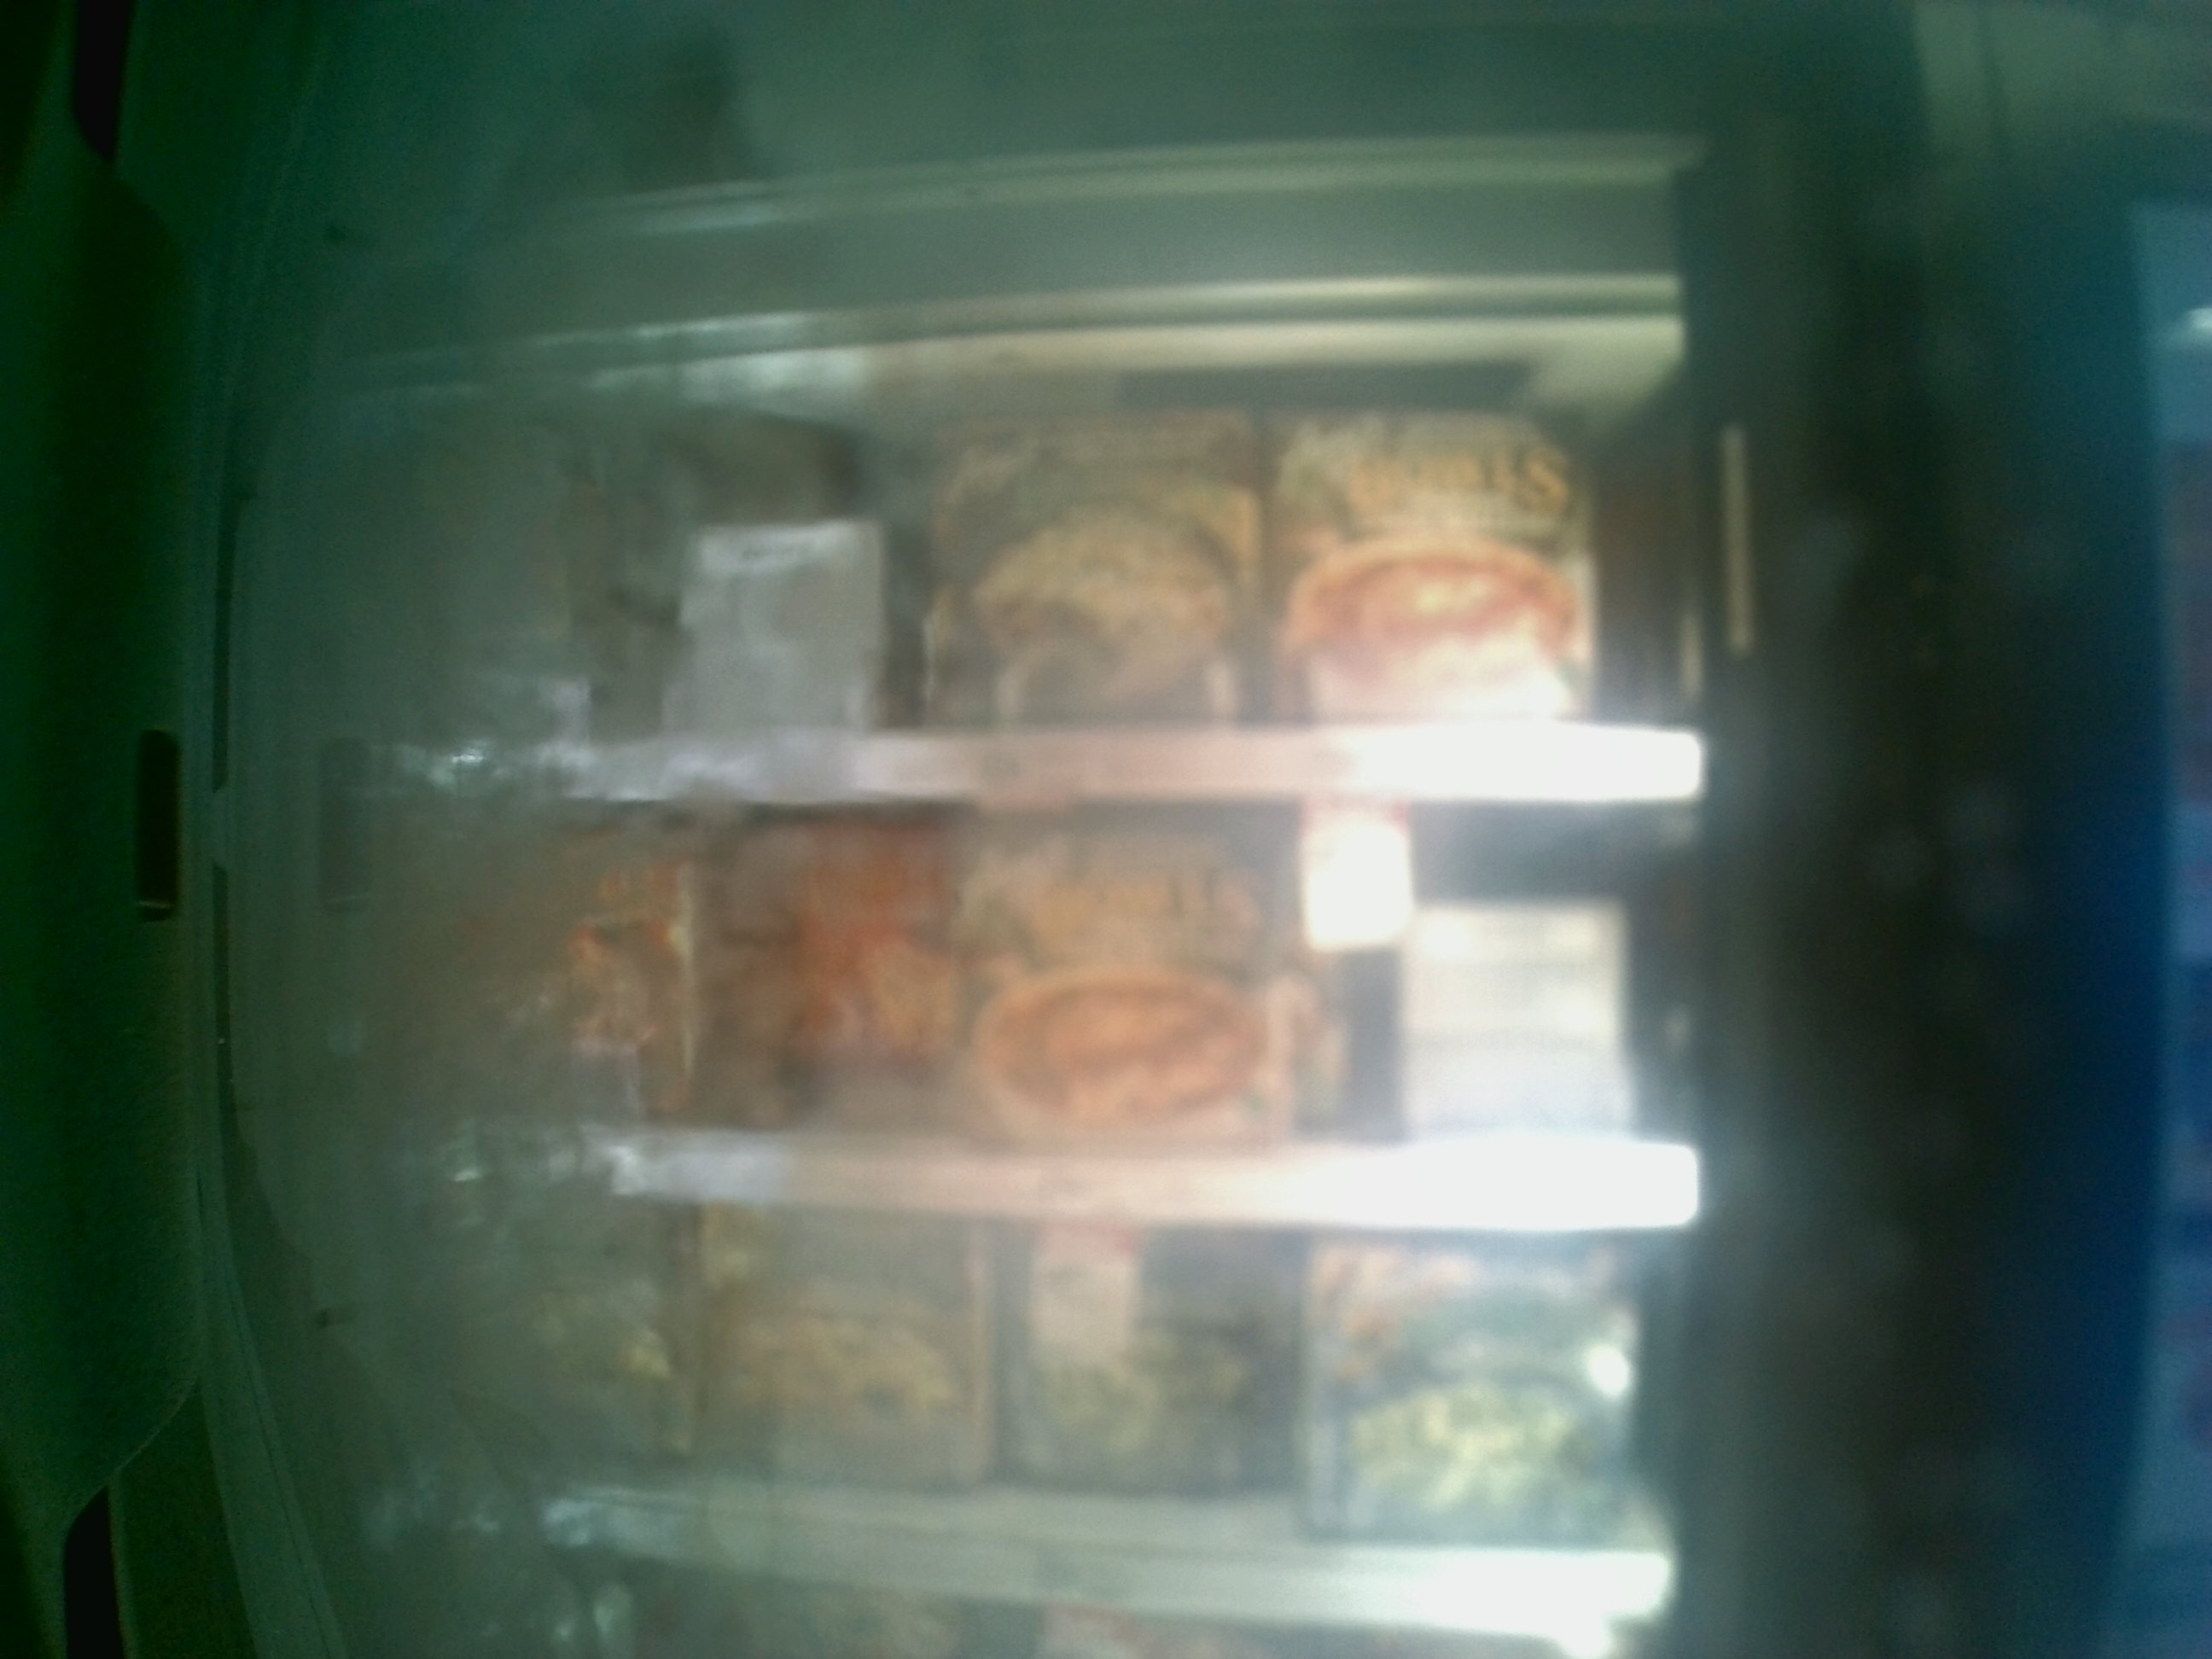frozen-food-shelf: (291, 796, 1707, 1234)
